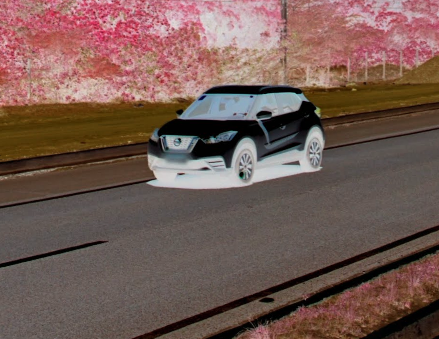car: (145, 83, 327, 184)
